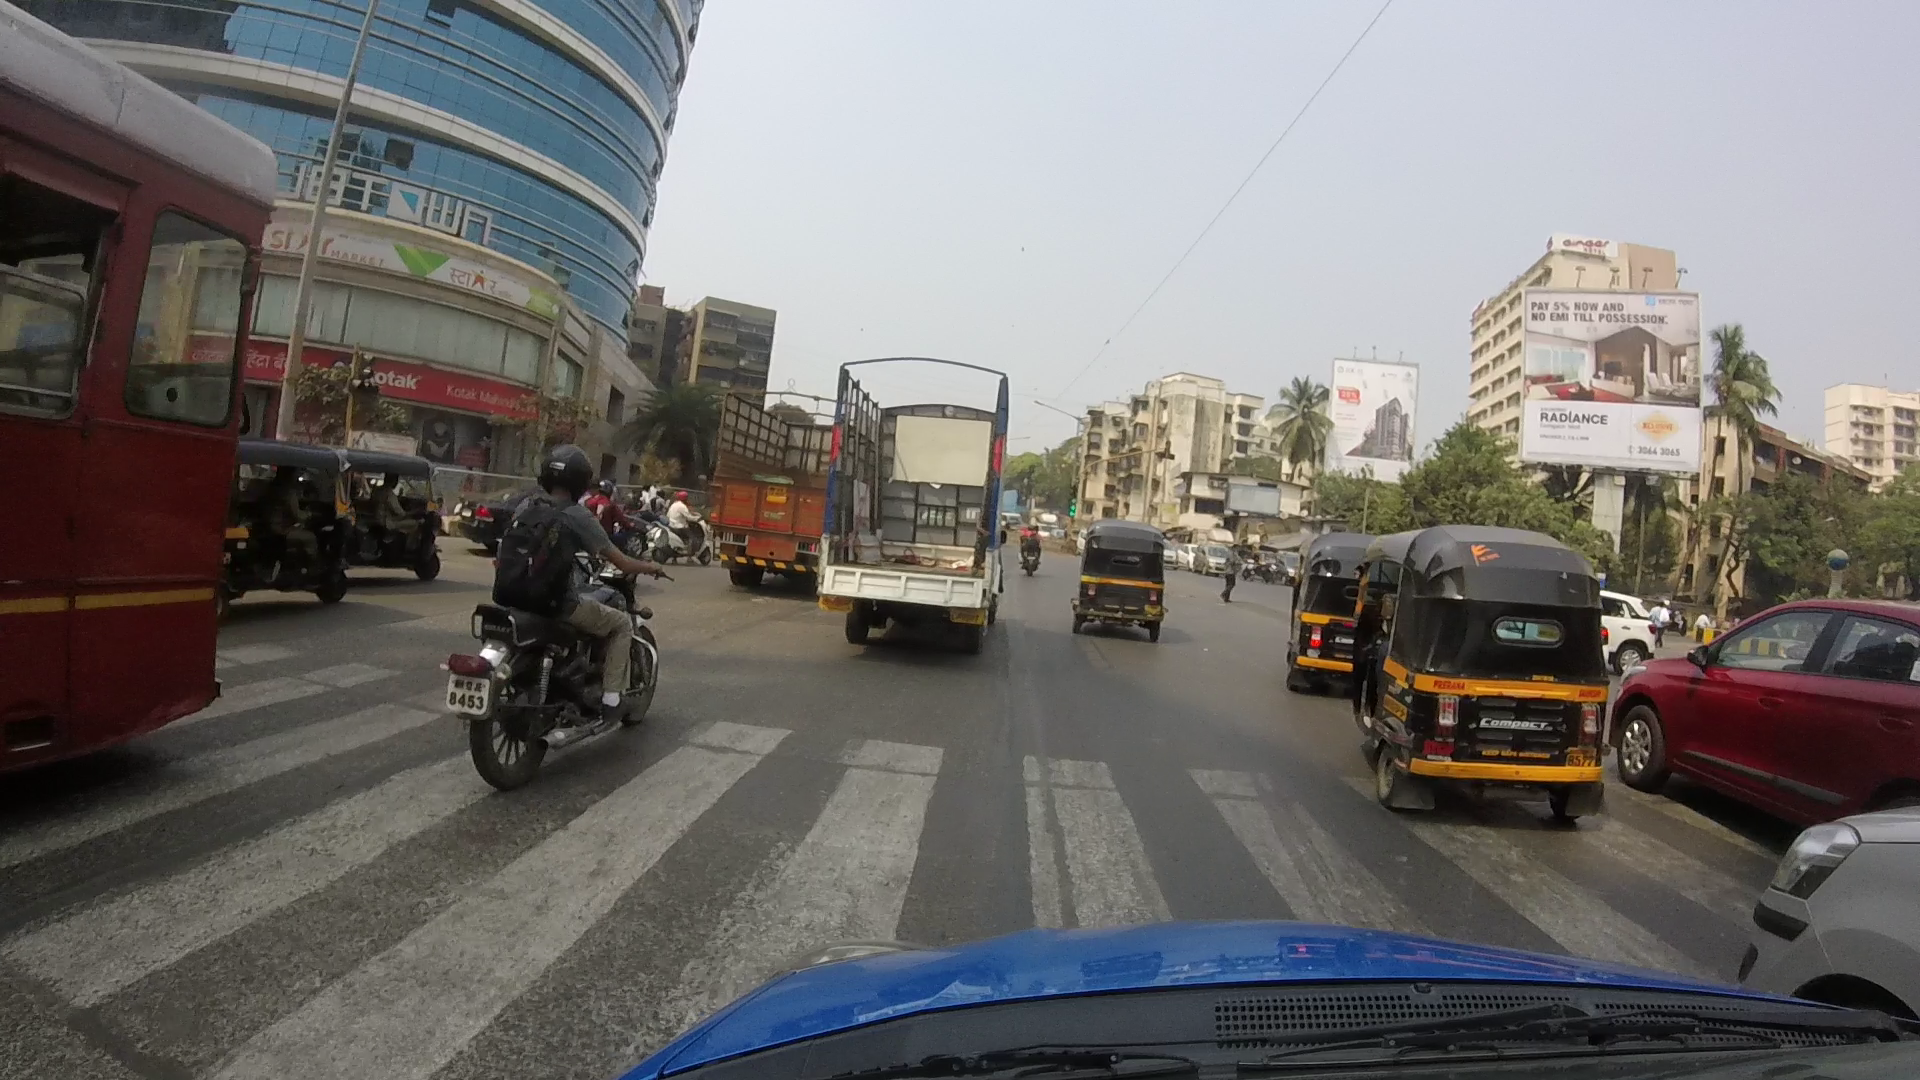bike/scooter: (415, 436, 698, 795)
bus: (4, 1, 260, 760)
car: (1621, 582, 1920, 796), (1733, 804, 1920, 1015)
rickshaw: (1362, 525, 1619, 804), (224, 415, 360, 611), (1060, 491, 1189, 678), (1269, 520, 1377, 716), (336, 429, 454, 592)
truck: (812, 331, 1018, 680), (680, 342, 848, 587)
